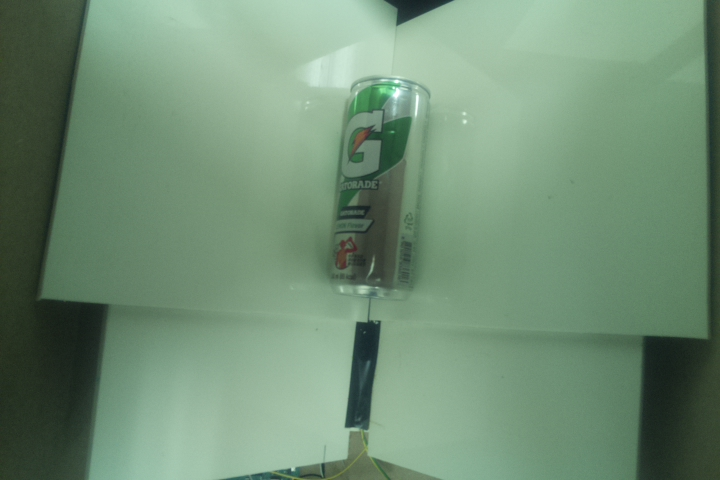can: (324, 72, 431, 311)
